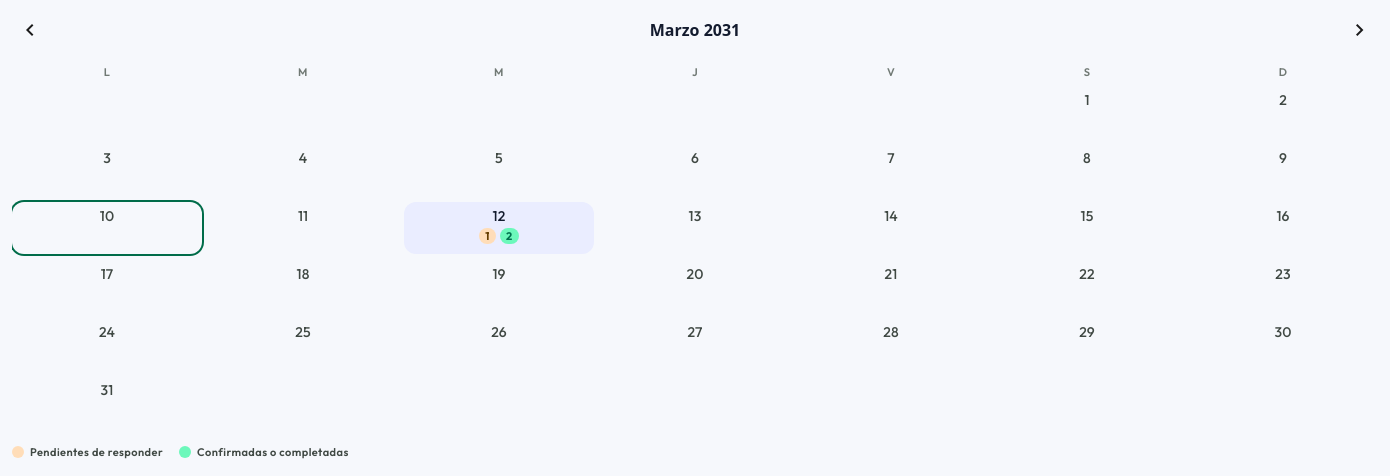
Scenario: CalendarioReservas › navega a otros meses y muestra sus reservas
Click the button named "Mes siguiente": (1360, 30) [1342,12,1378,48]
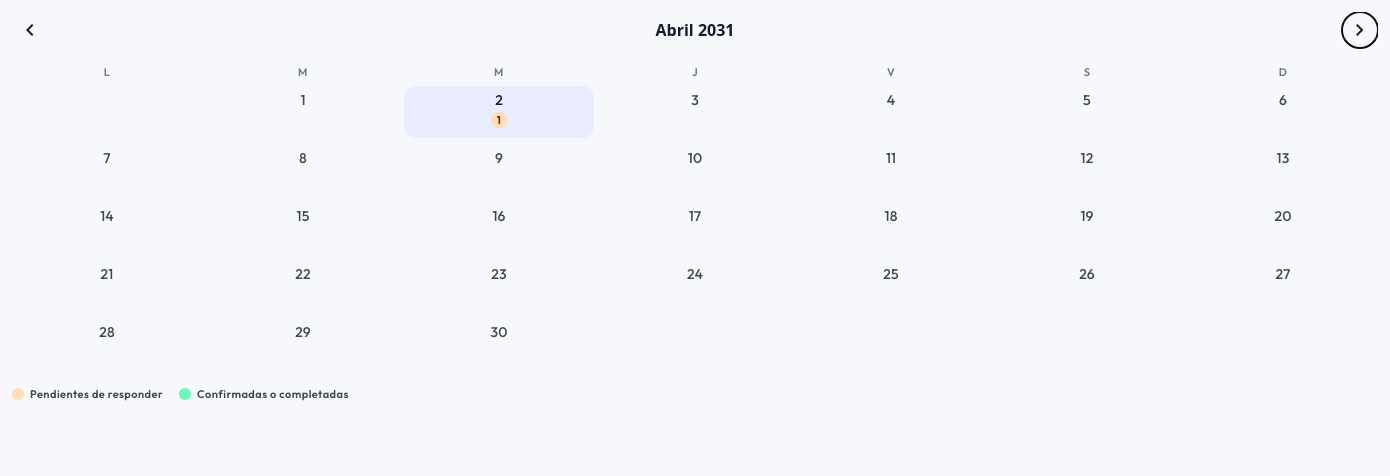
Expected: the button named "2 de abril: 1 pendiente" is shown, [404,86,594,138]
Expected: the text "abril 2031" is shown, [656,18,734,42]
Click the button named "Mes anterior": (30, 30) [12,12,48,48]
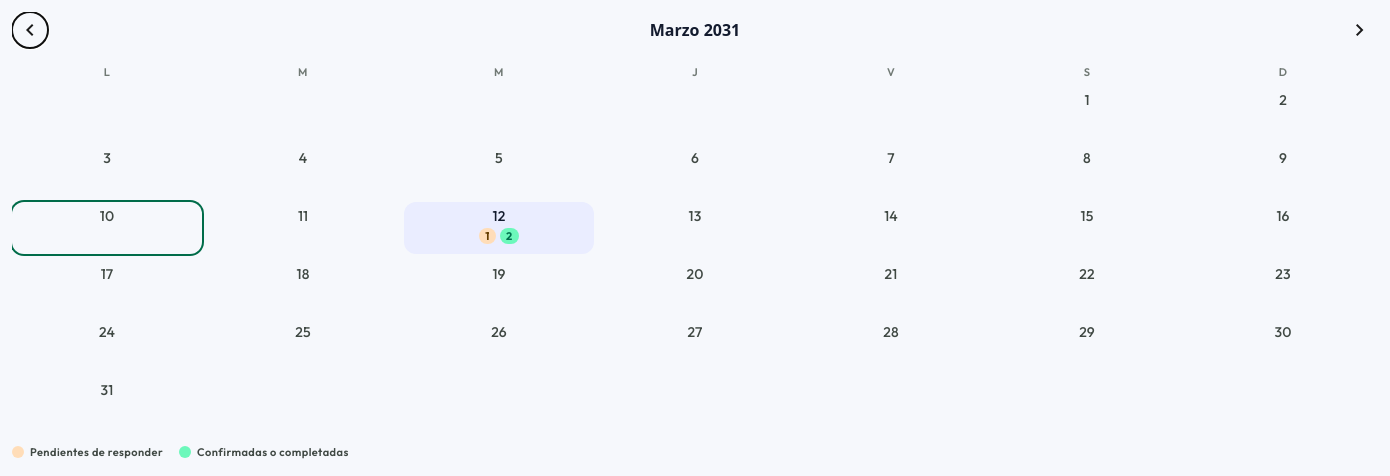
Expected: the text "marzo 2031" is shown, [650,18,740,42]
